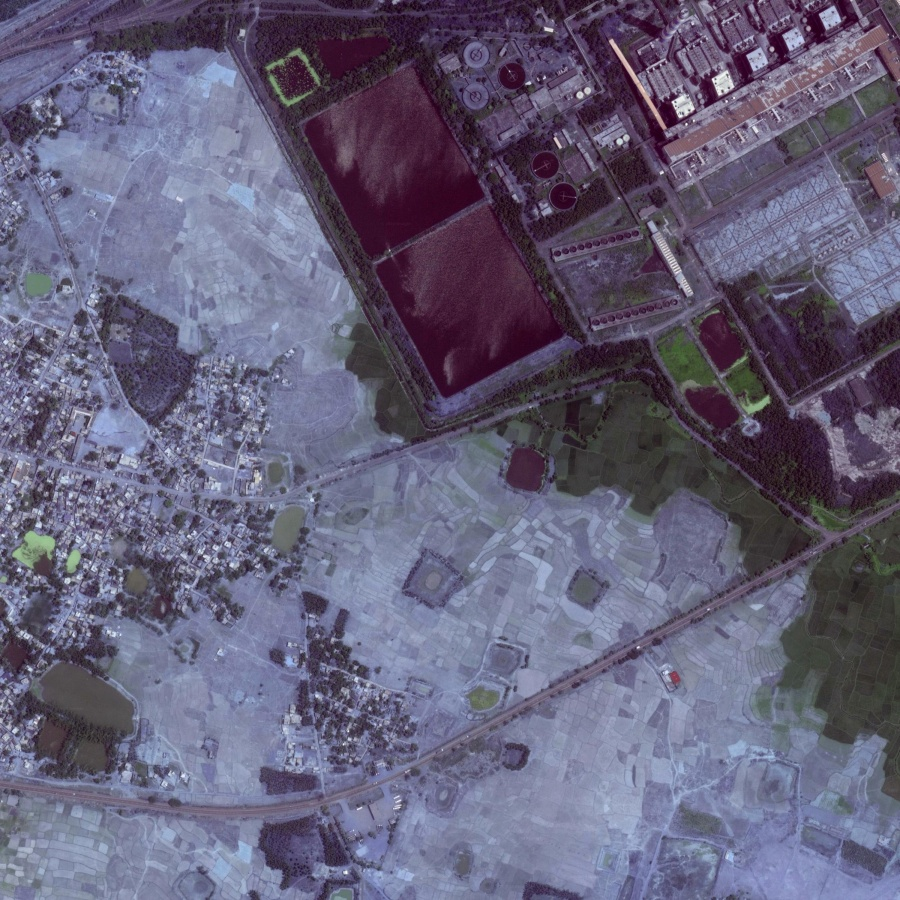PowerPlant: (275, 39, 638, 442)
